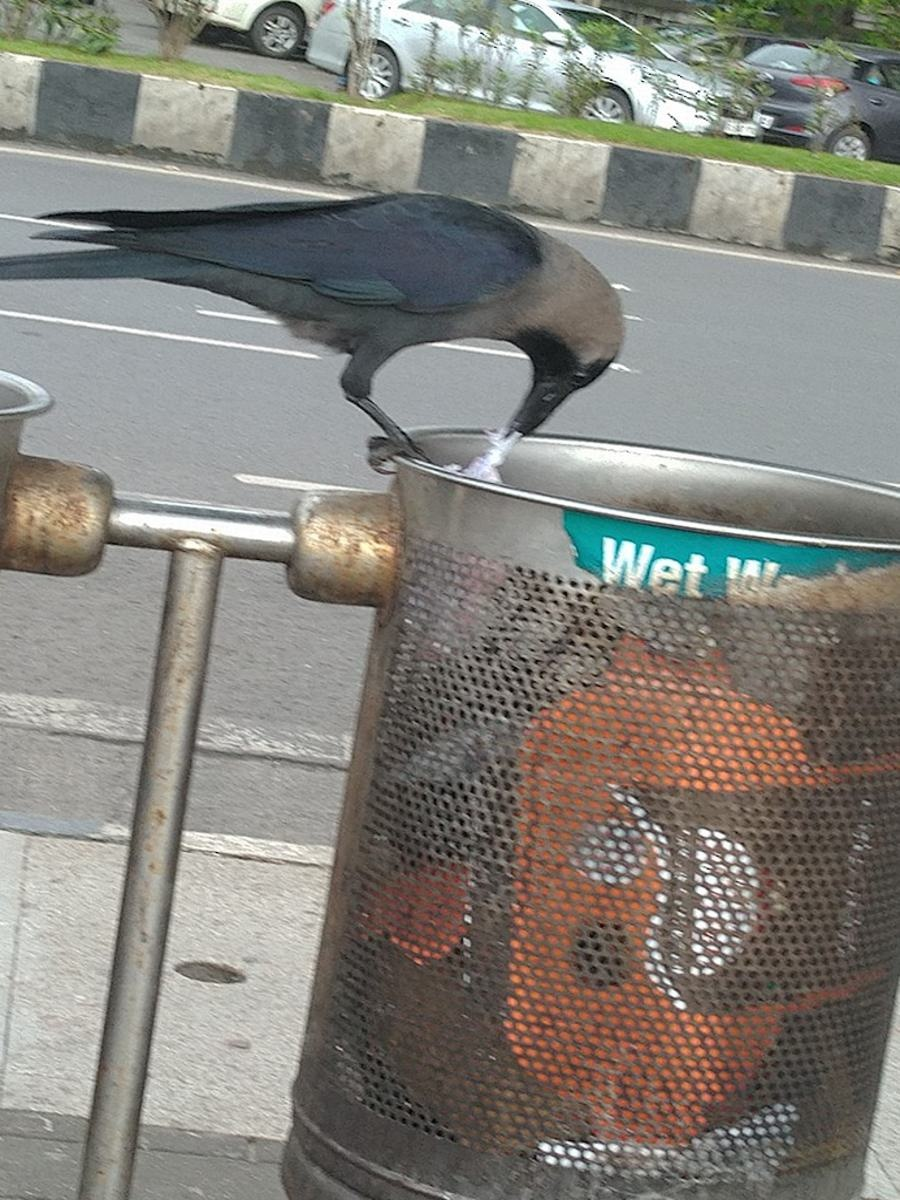crow: (43, 168, 619, 501)
